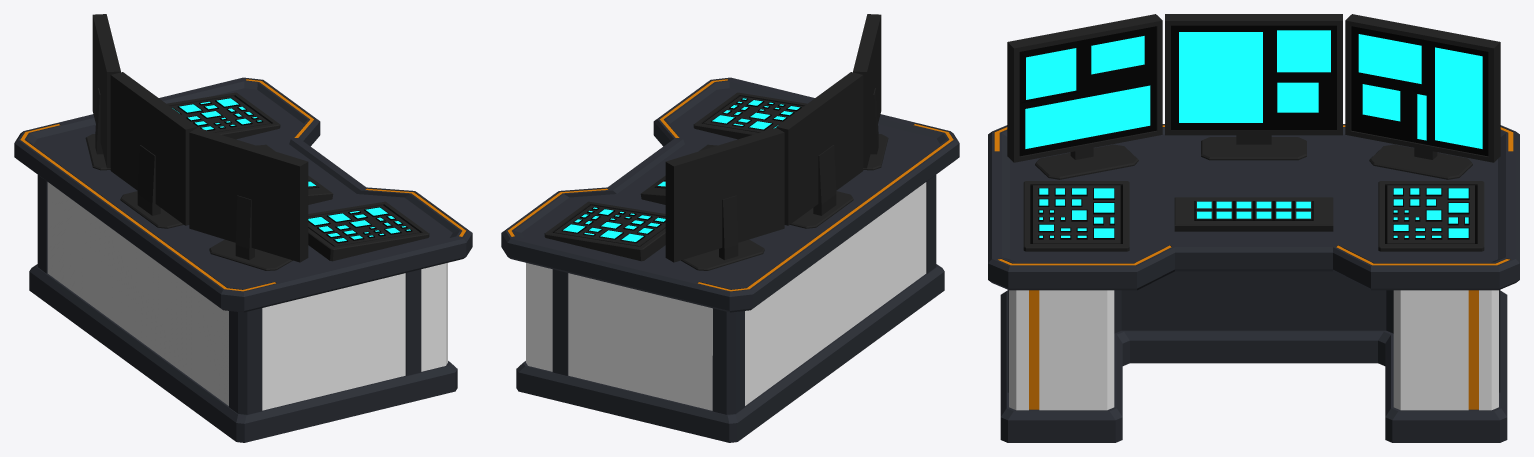
The model's file is SM_Control_Desk.fbx.
3 renders of one model, left to right at view 1: azimuth 30°, elevation 25°; view 2: azimuth 150°, elevation 25°; view 3: azimuth 270°, elevation 25°, orthographic. The views are drawn at different scales.
Parts seen in each view (by area): view 1: SM_Control_Desk; view 2: SM_Control_Desk; view 3: SM_Control_Desk.
Part boxes in pixels (<box>): SM_Control_Desk: <box>14,14,472,442</box>; SM_Control_Desk: <box>501,14,959,442</box>; SM_Control_Desk: <box>988,14,1519,442</box>.
Size of the model in its own units: 136 by 135 by 210.
